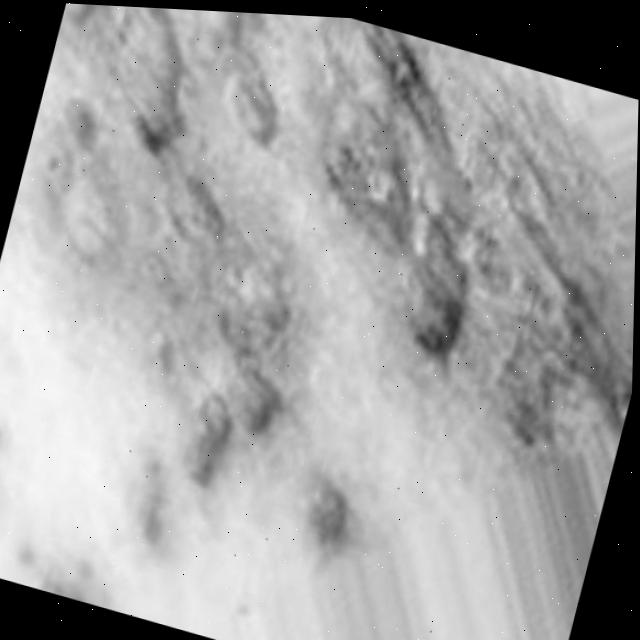Shingles: (0, 0, 640, 636), (33, 561, 138, 616)
